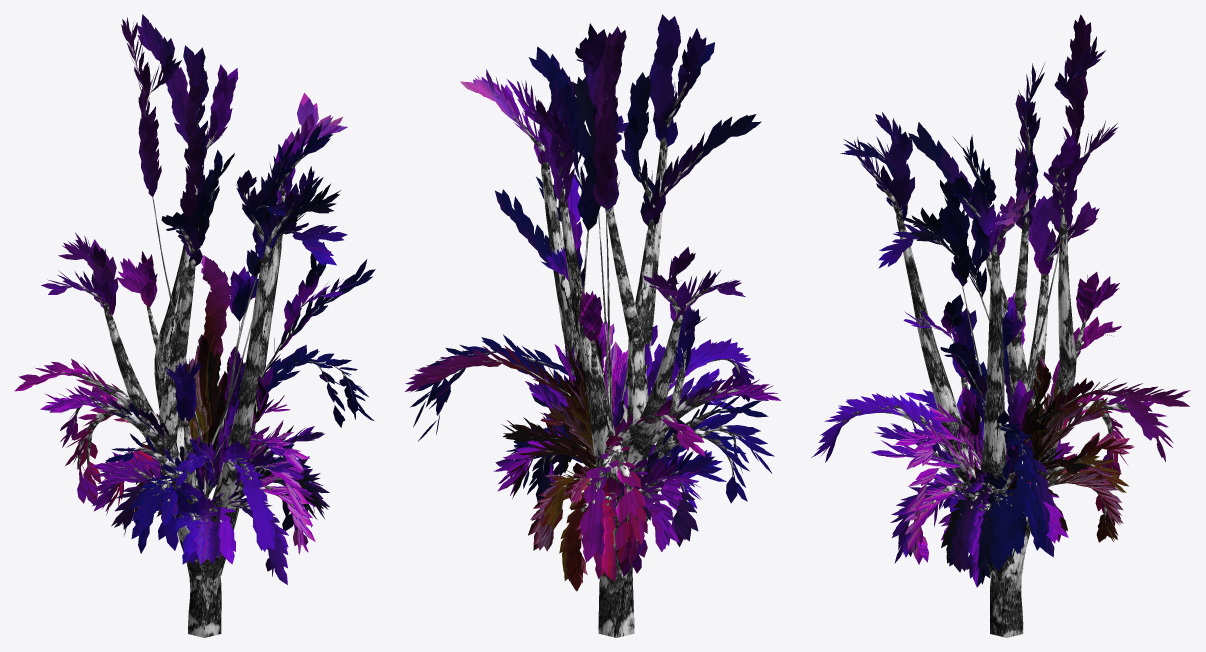
Rendered from arbol2.obj.
The picture shows the model from 3 angles, left to right: view 1: azimuth 30°, elevation 25°; view 2: azimuth 150°, elevation 25°; view 3: azimuth 270°, elevation 25°; orthographic projection. The views are drawn at different scales.
Visible parts, largest first — view 1: arbol2hojas, arbol2base; view 2: arbol2hojas, arbol2base; view 3: arbol2hojas, arbol2base.
Boxes of the visible parts, <box> form: arbol2hojas: <box>14,14,375,584</box>; arbol2base: <box>56,50,353,637</box>; arbol2hojas: <box>405,14,780,591</box>; arbol2base: <box>440,65,753,637</box>; arbol2hojas: <box>811,14,1190,587</box>; arbol2base: <box>837,75,1158,637</box>.
Size of the model in its own units: 2.27 by 3.84 by 2.23.
2 materials, 2 textured.
